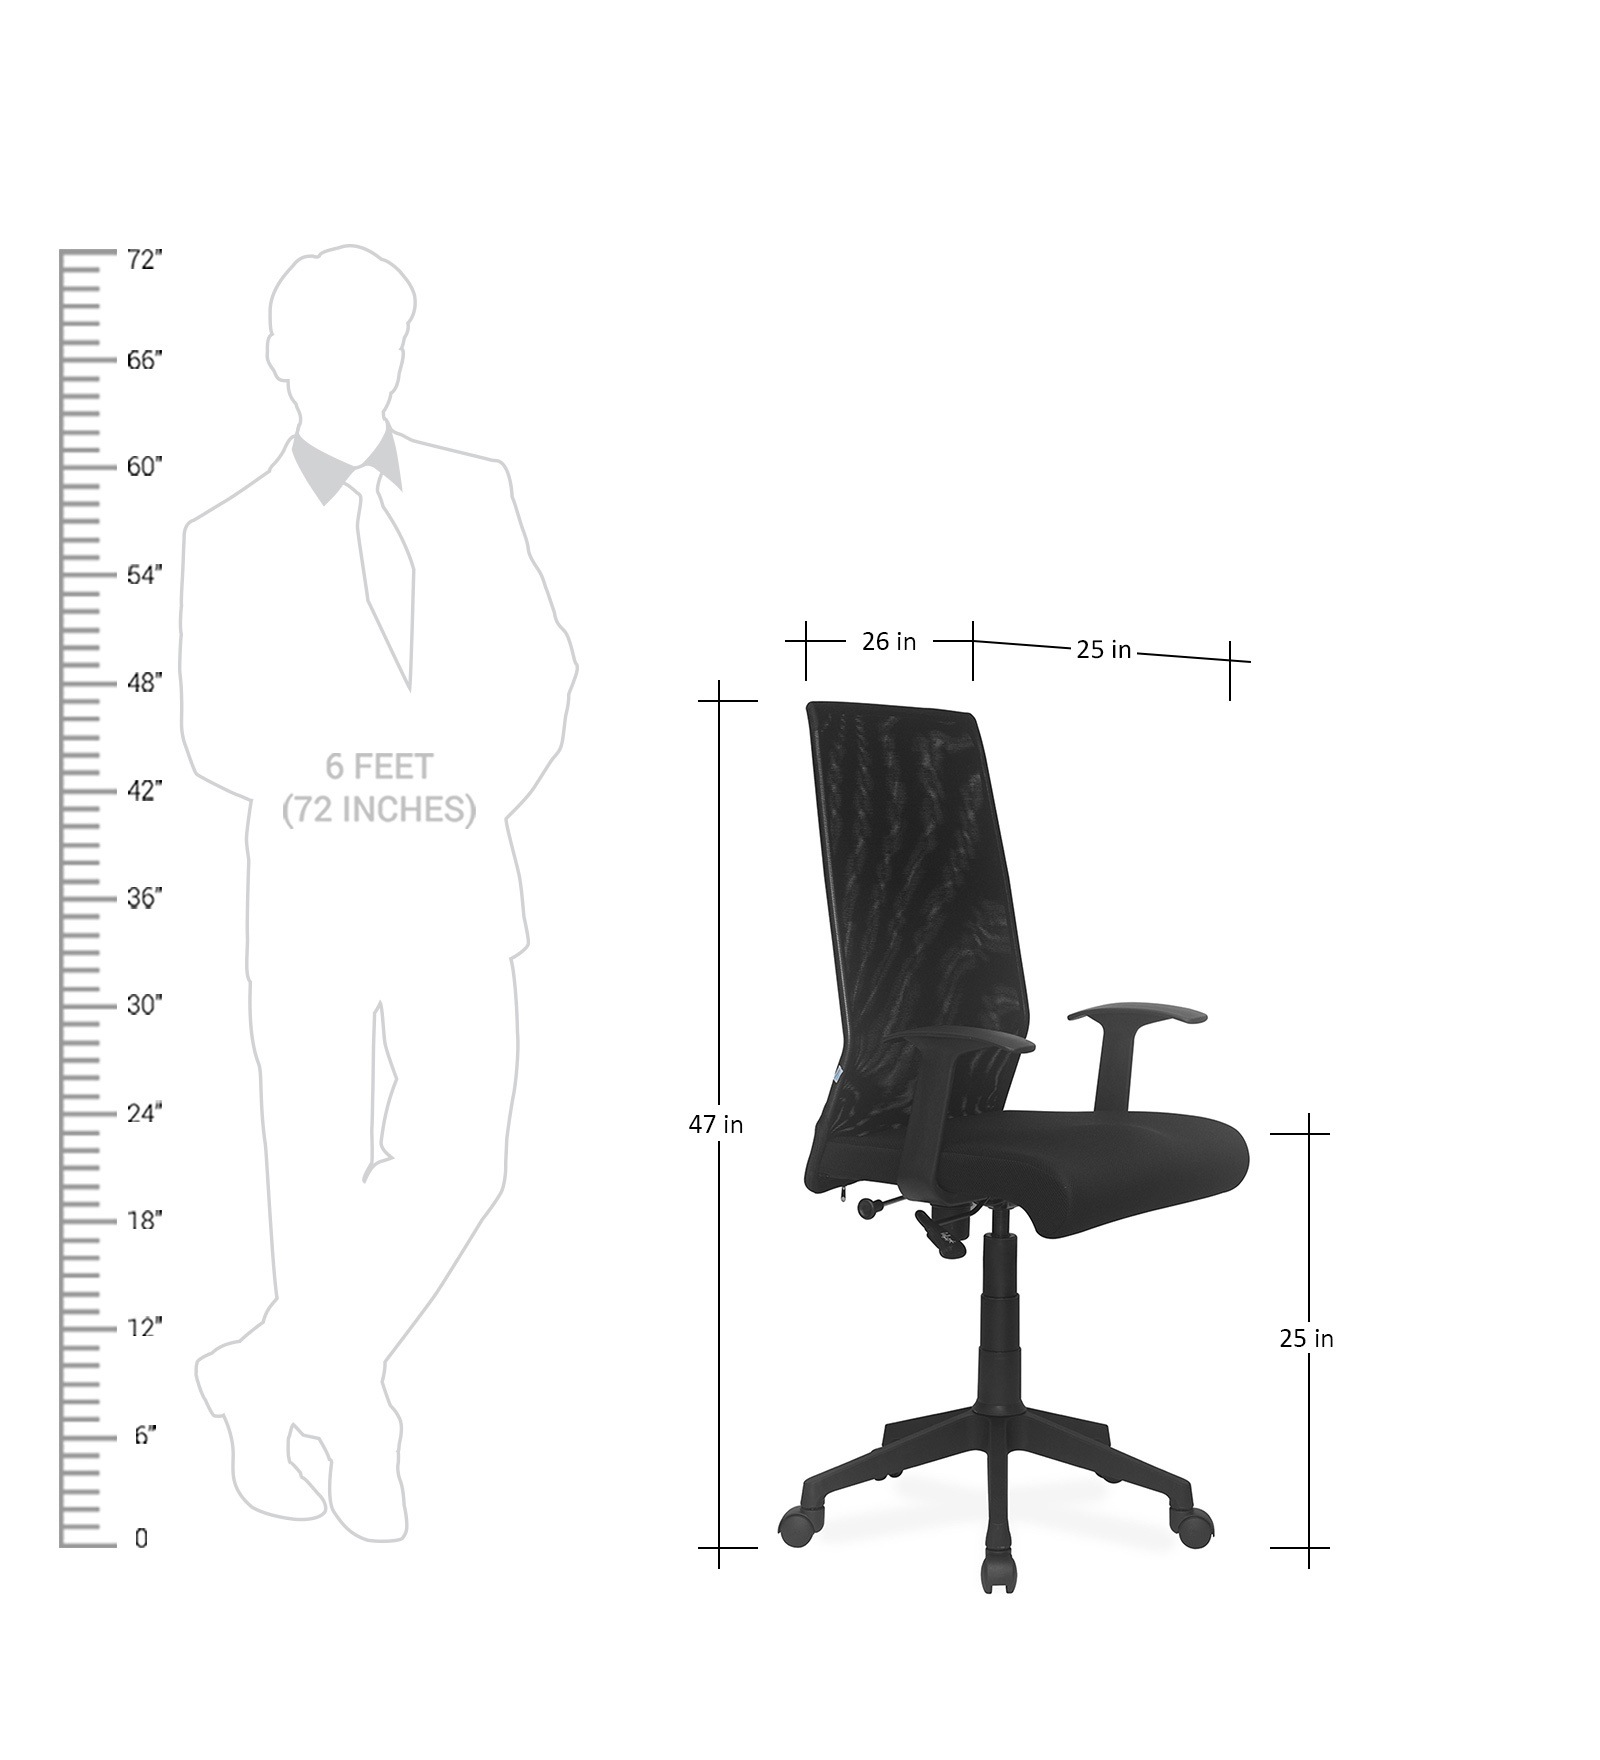Teak Wood Rocking Chair in Walnut Finish by Furniease: (775, 684, 1248, 1624)
